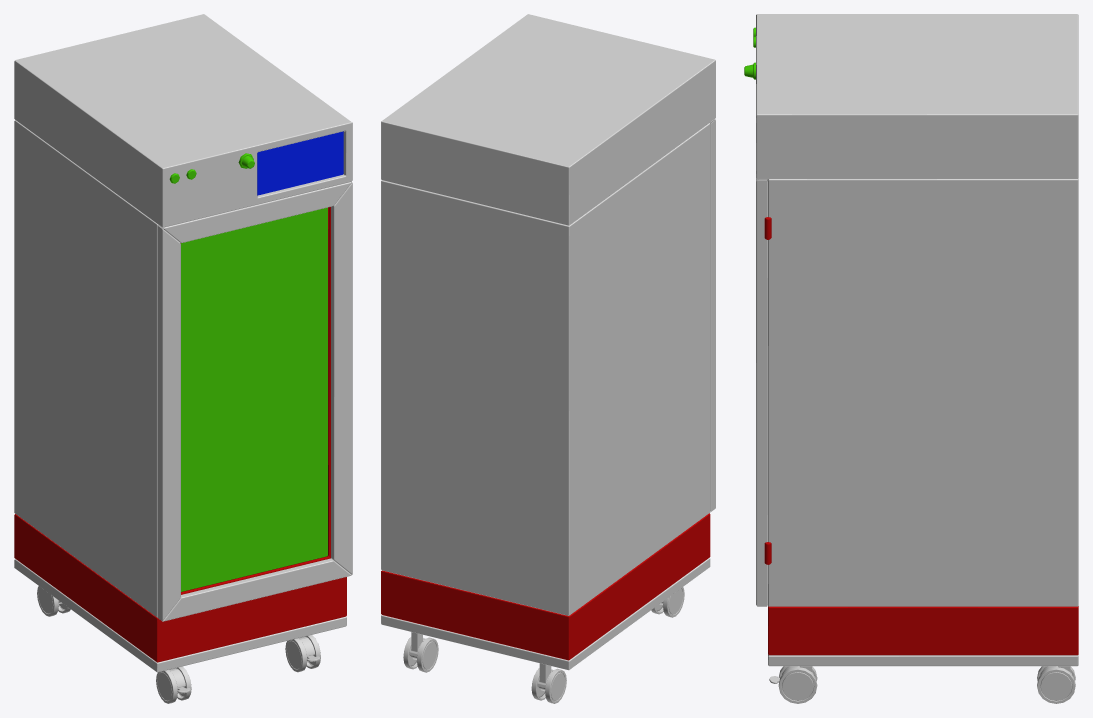
The model's file is Fridge01.fbx.
The picture shows the model from 3 angles, left to right: view 1: azimuth 30°, elevation 25°; view 2: azimuth 150°, elevation 25°; view 3: azimuth 270°, elevation 25°; orthographic projection. The views are drawn at different scales.
Parts seen in each view (by area): view 1: Fridge01, Door, Wheels; view 2: Fridge01, Wheels, Door; view 3: Fridge01, Door, Wheels.
Boxes of the visible parts, x1,y1,x2,y2 form: Fridge01: [14, 14, 352, 672]; Door: [157, 182, 352, 621]; Wheels: [37, 586, 320, 703]; Fridge01: [381, 14, 715, 670]; Wheels: [403, 587, 684, 703]; Door: [710, 119, 715, 512]; Fridge01: [744, 14, 1078, 666]; Door: [756, 178, 767, 606]; Wheels: [769, 666, 1075, 703].
Size of the model in its own units: 50.75 by 70 by 139.
